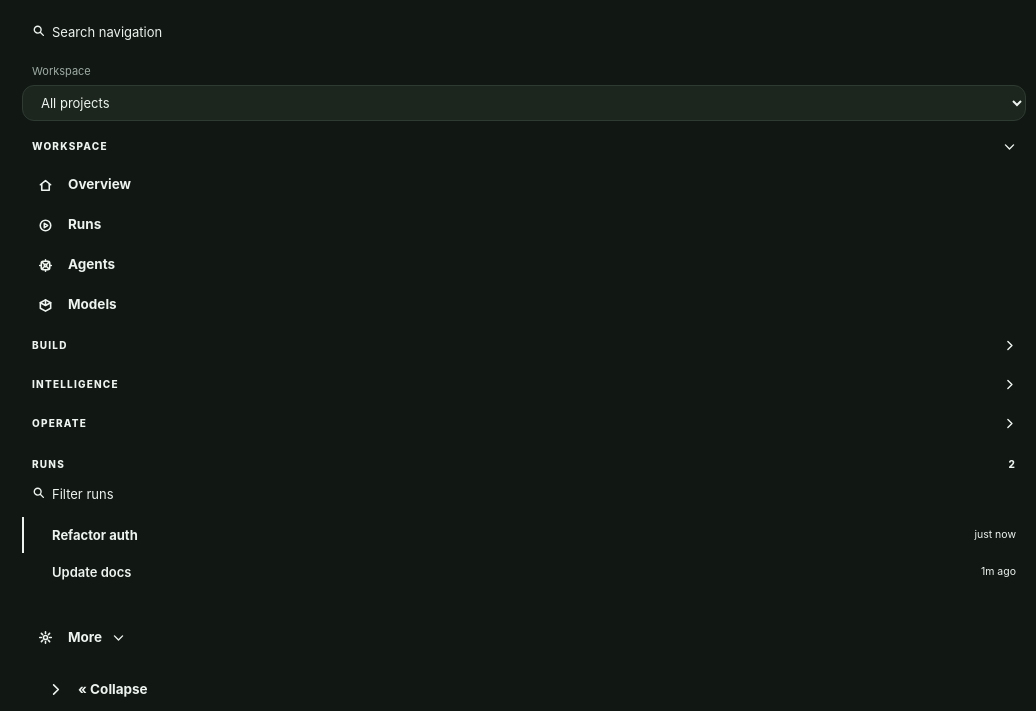
session4: navigation information architecture › group items navigate to their view once revealed
The image size is (1036, 711).
Step 1. Click the button "Build" → {"x": 50, "y": 345}, box [22, 326, 1026, 364]
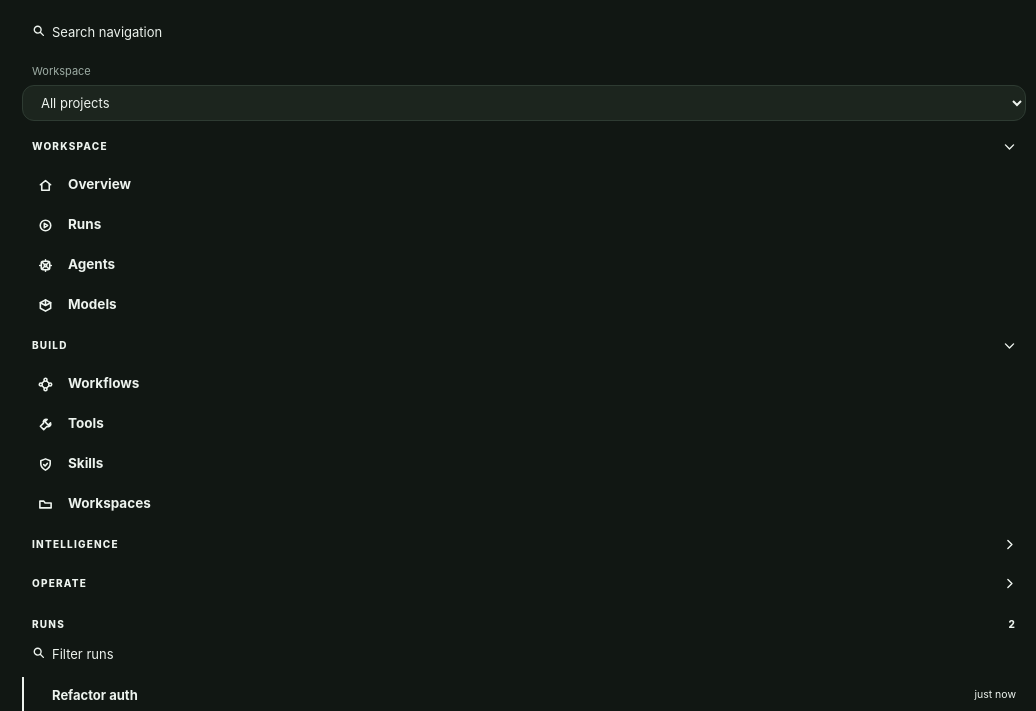
Step 2. Click the button "Tools" → {"x": 86, "y": 423}, box [22, 404, 1026, 444]
(page scrolled)
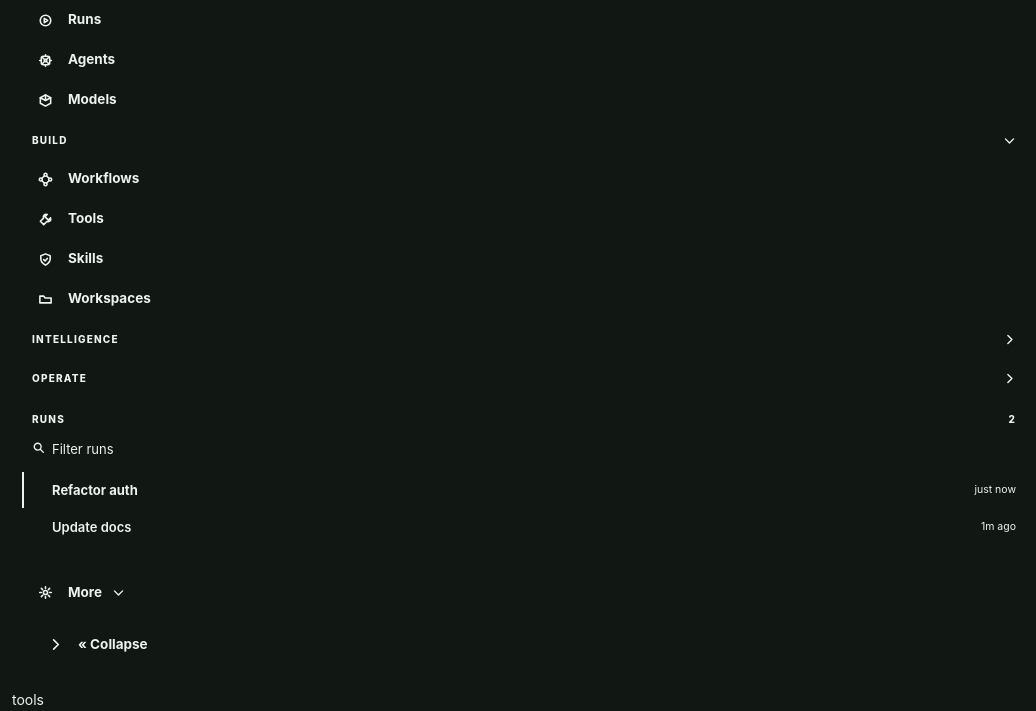
Check: the text with test id "view" reads "tools", box [12, 691, 44, 708]
